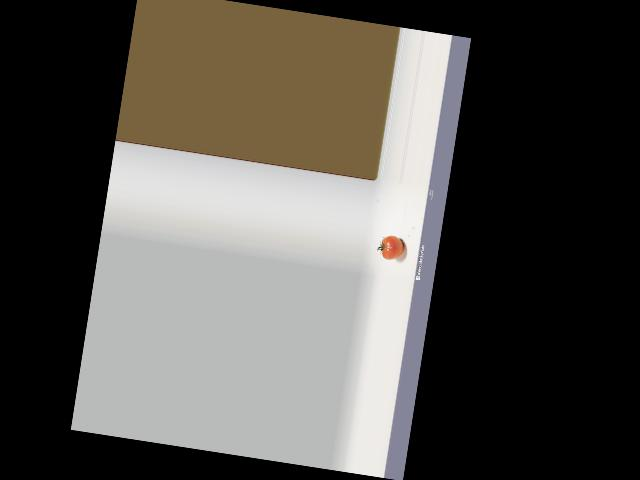tomato: (380, 234, 405, 261)
